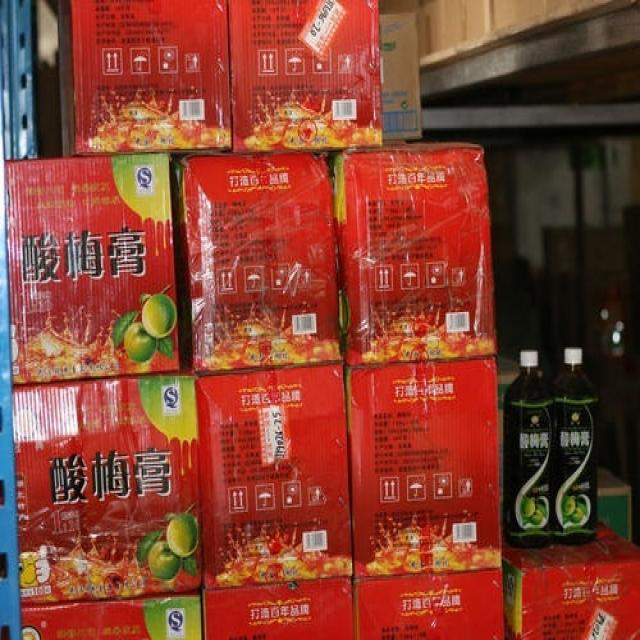box: (14, 371, 205, 605), (5, 155, 179, 384), (169, 149, 343, 371), (332, 142, 499, 366), (196, 362, 355, 589), (344, 358, 502, 576), (58, 0, 232, 157), (227, 0, 383, 154), (502, 517, 640, 638), (19, 584, 205, 640), (353, 570, 504, 638), (202, 579, 356, 640), (380, 13, 422, 141), (426, 0, 493, 53), (498, 357, 521, 502), (381, 0, 433, 58), (492, 0, 584, 32), (598, 462, 631, 542)
